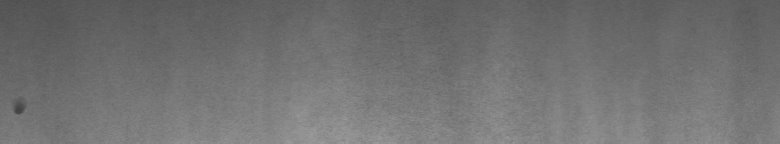fi: (8, 102, 28, 123)
